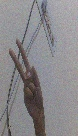hand: (8, 38, 46, 122)
